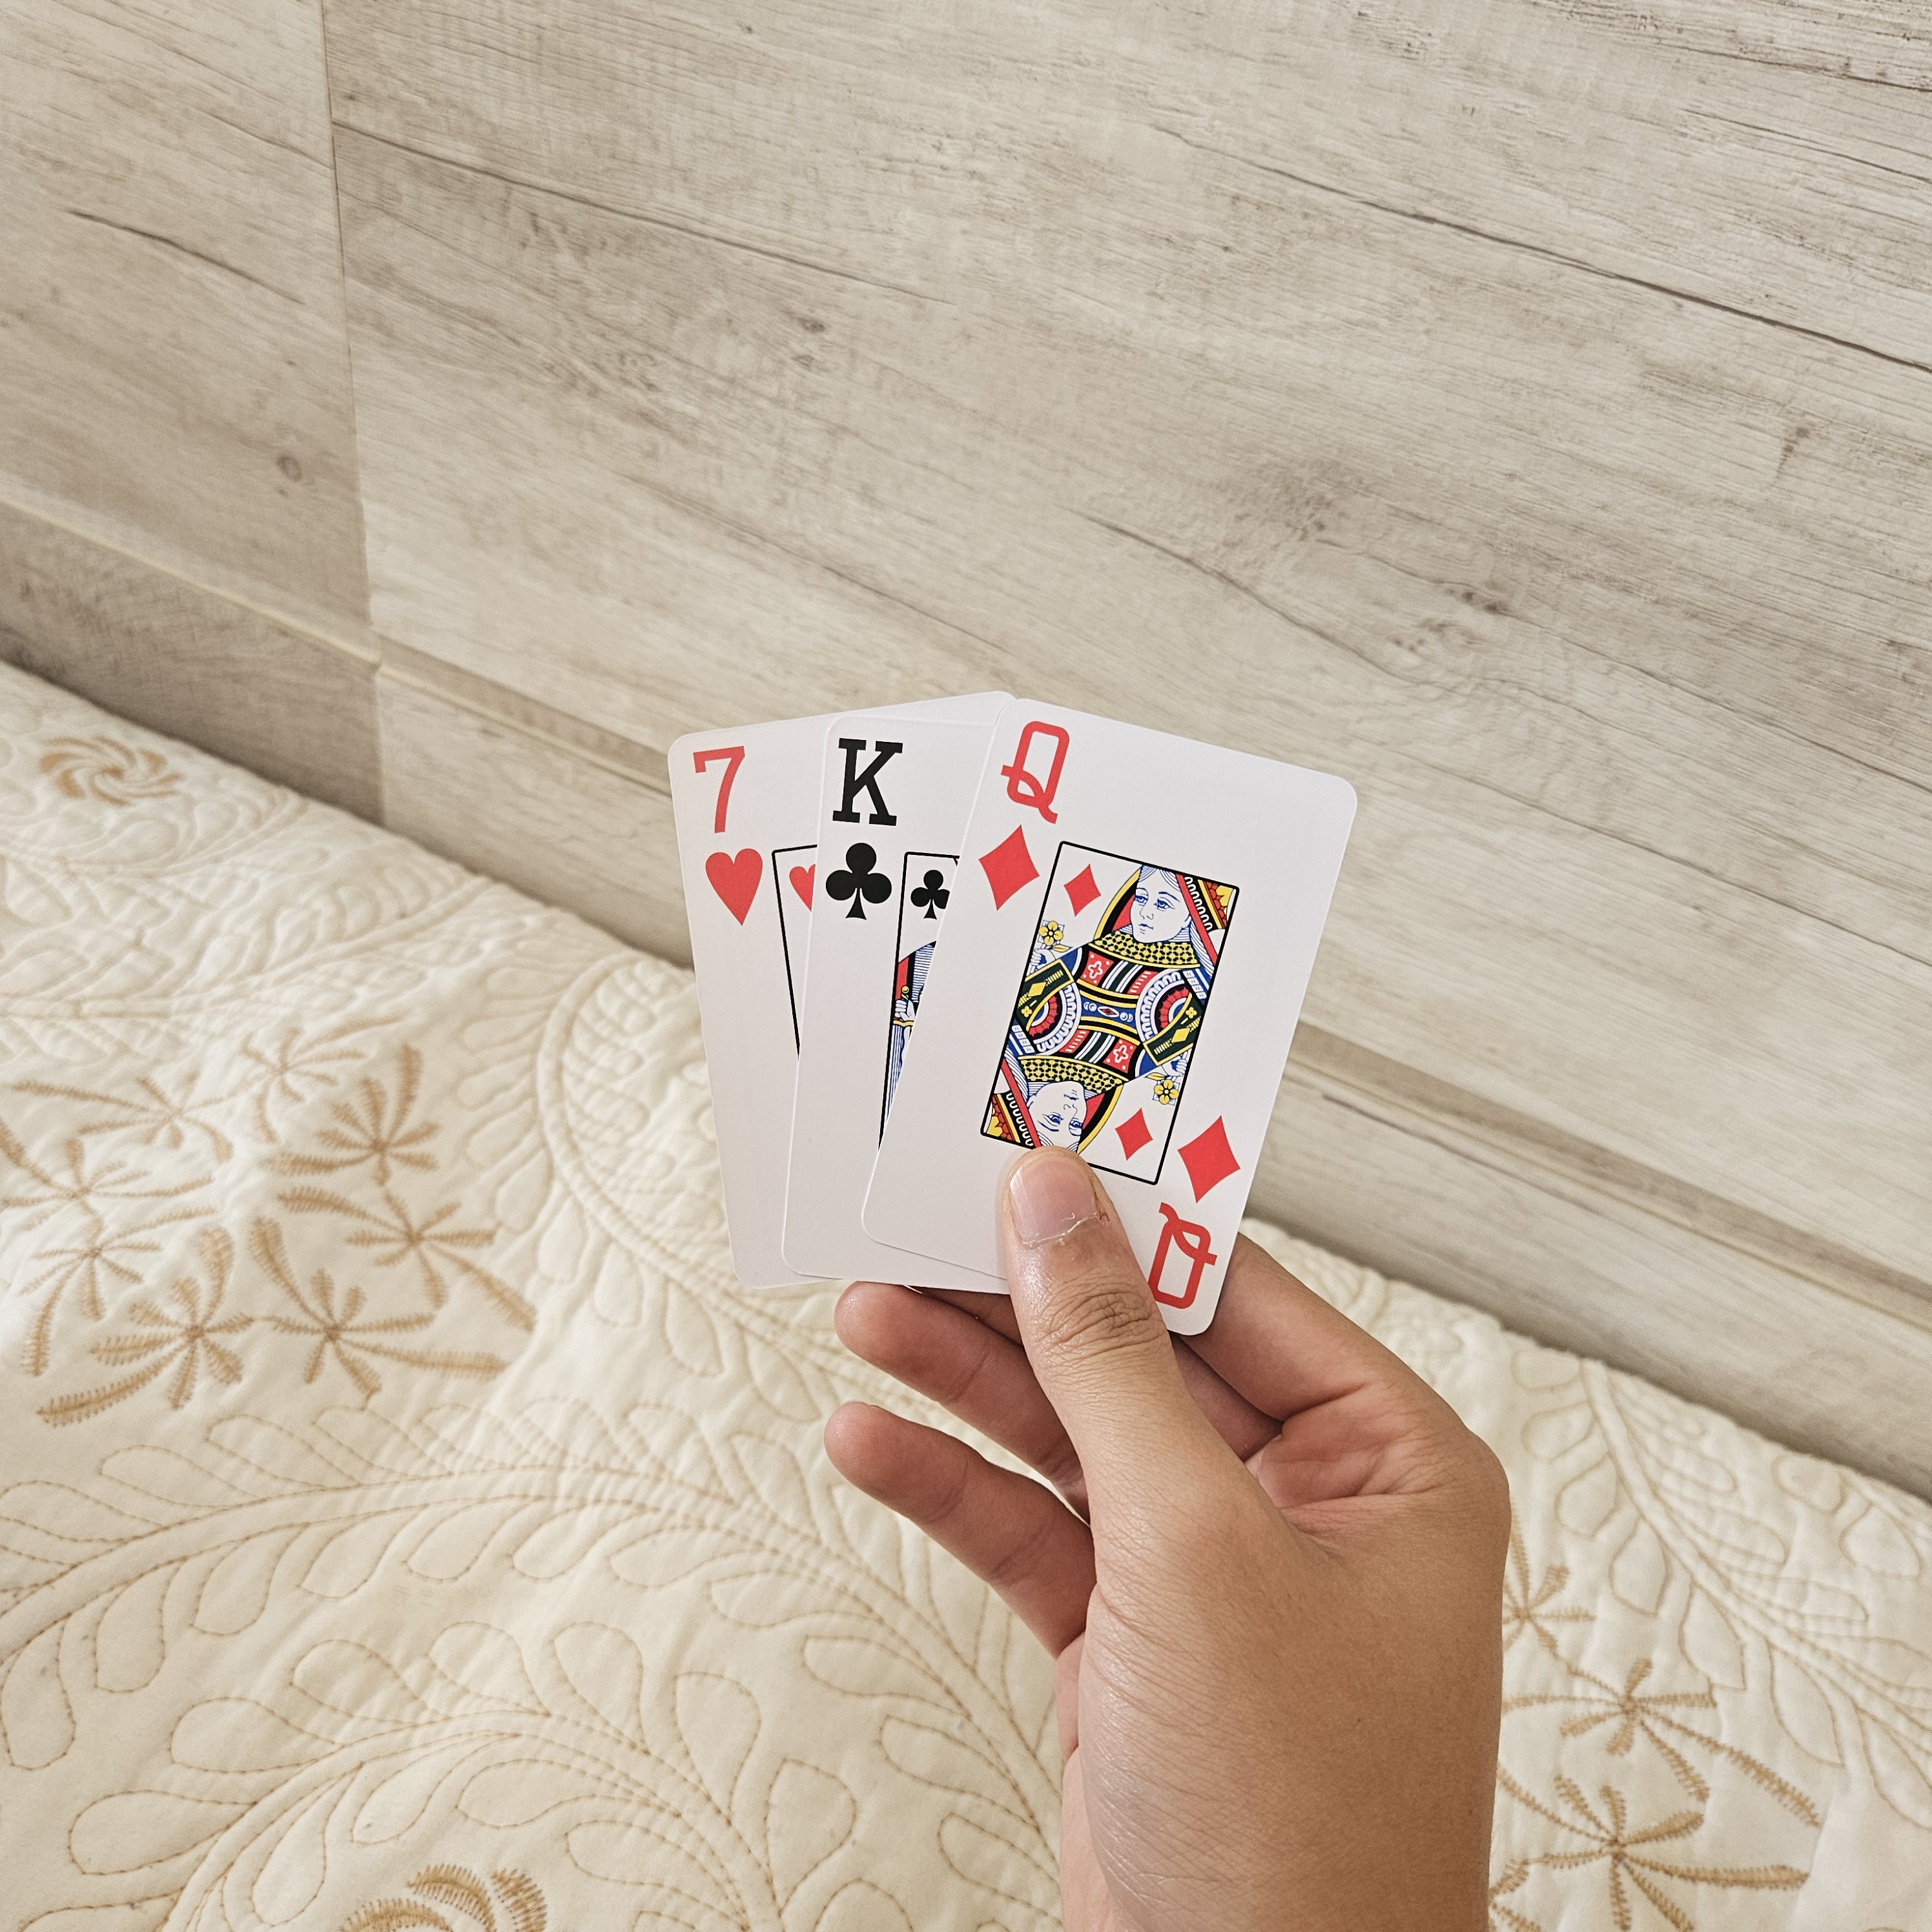7C: (667, 734, 778, 936)
KP: (817, 718, 913, 932)
QO: (1148, 1097, 1244, 1318), (971, 701, 1067, 916)
